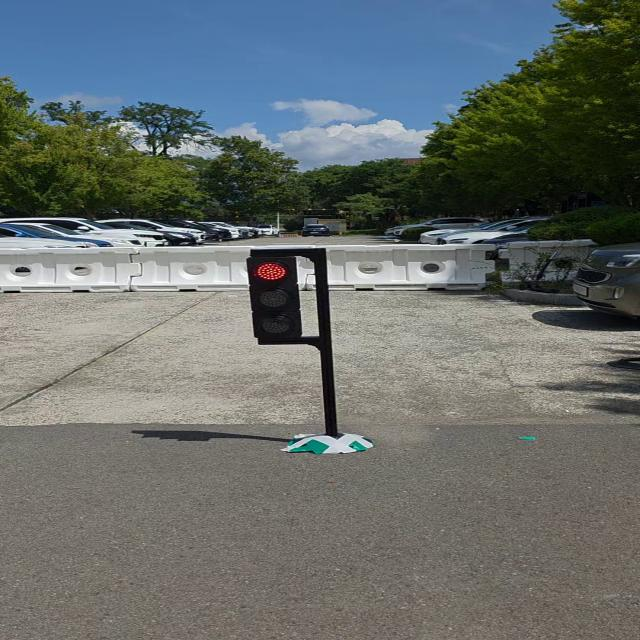red: (239, 249, 337, 351)
